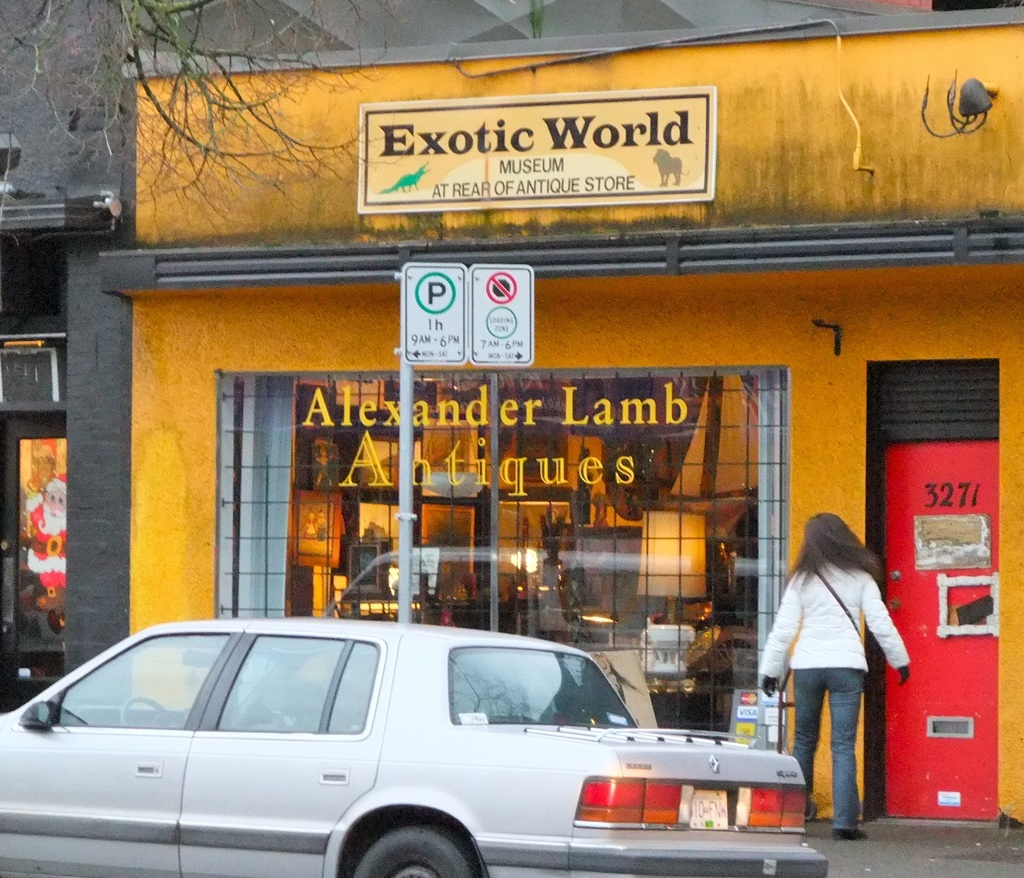Car: (23, 622, 807, 870)
